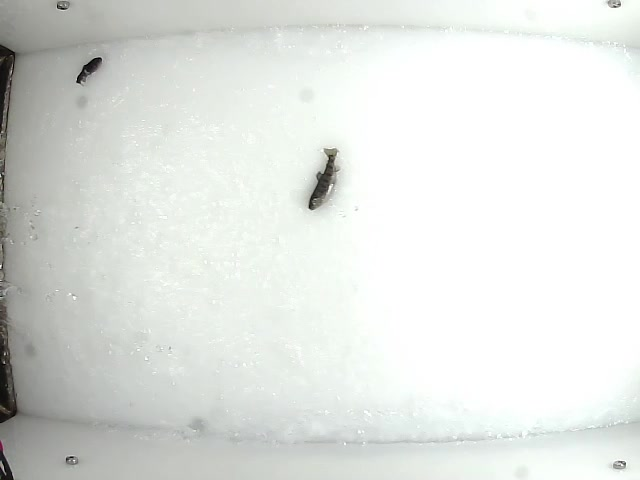fish: (304, 147, 344, 211), (71, 54, 104, 88)
